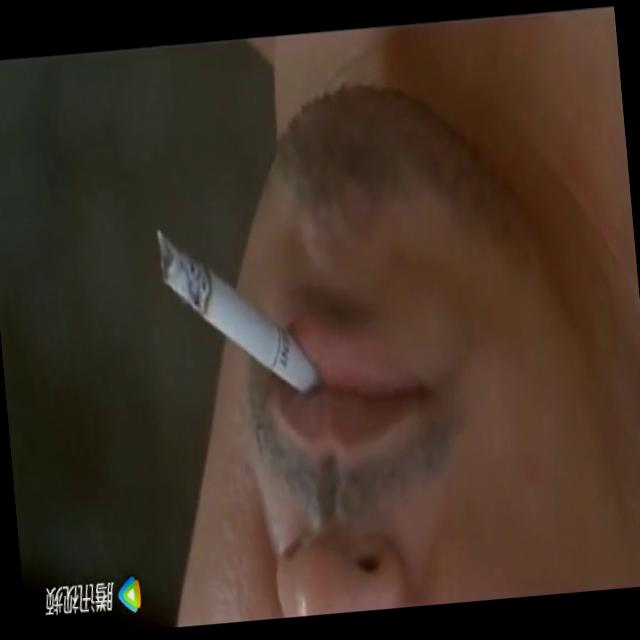smoke: (150, 206, 324, 426)
